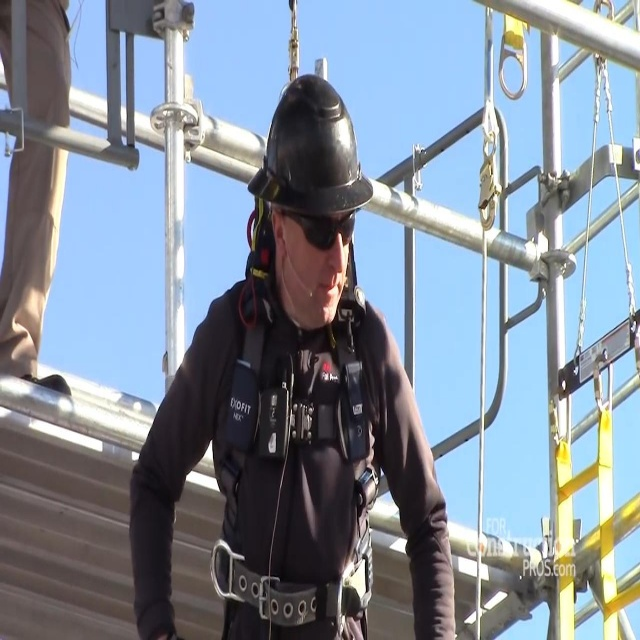Arnes_seguridad: (206, 140, 387, 640)
